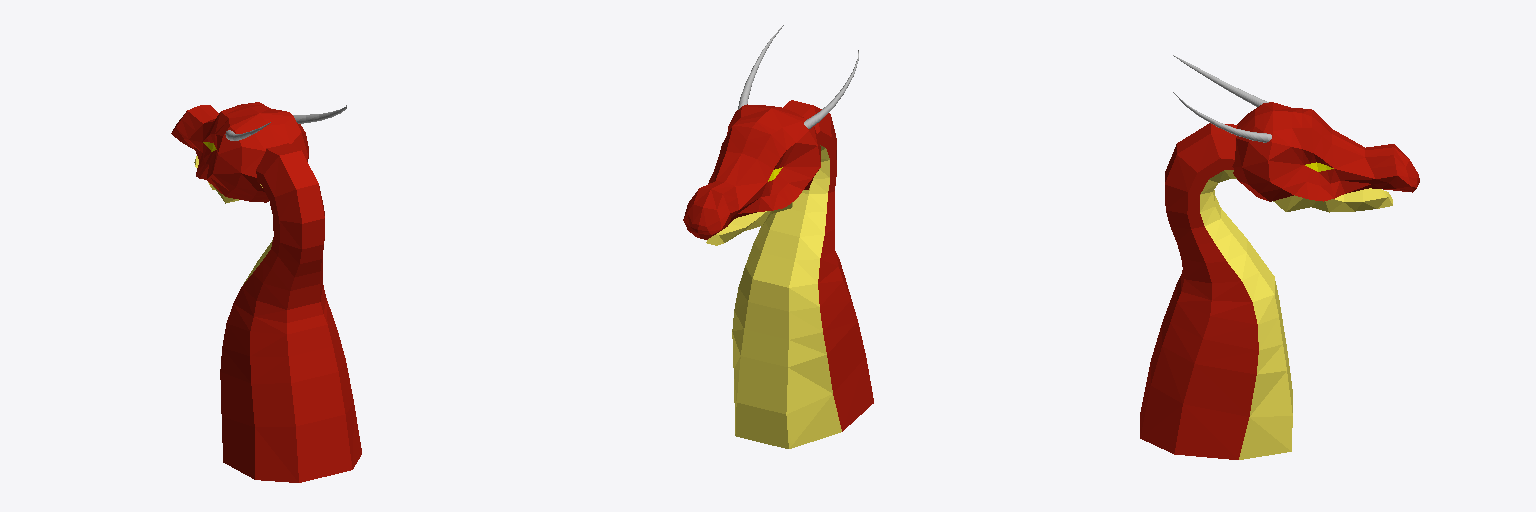
3 renders of one model, left to right at view 1: azimuth 30°, elevation 25°; view 2: azimuth 150°, elevation 25°; view 3: azimuth 270°, elevation 25°, orthographic.
Visible parts, largest first — view 1: 角_円柱; view 2: 角_円柱; view 3: 角_円柱.
Part boxes in pixels (x1,y1,x2,y2): 角_円柱: (171, 102, 361, 482); 角_円柱: (683, 25, 873, 448); 角_円柱: (1140, 55, 1419, 459).
Size of the model in its own units: 0.5904 by 1.93 by 1.33.
Materials: 1 (1 with a texture image).